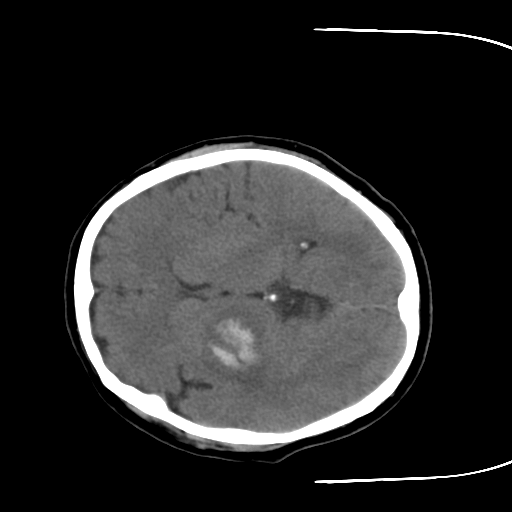a: (187, 296, 277, 401)
